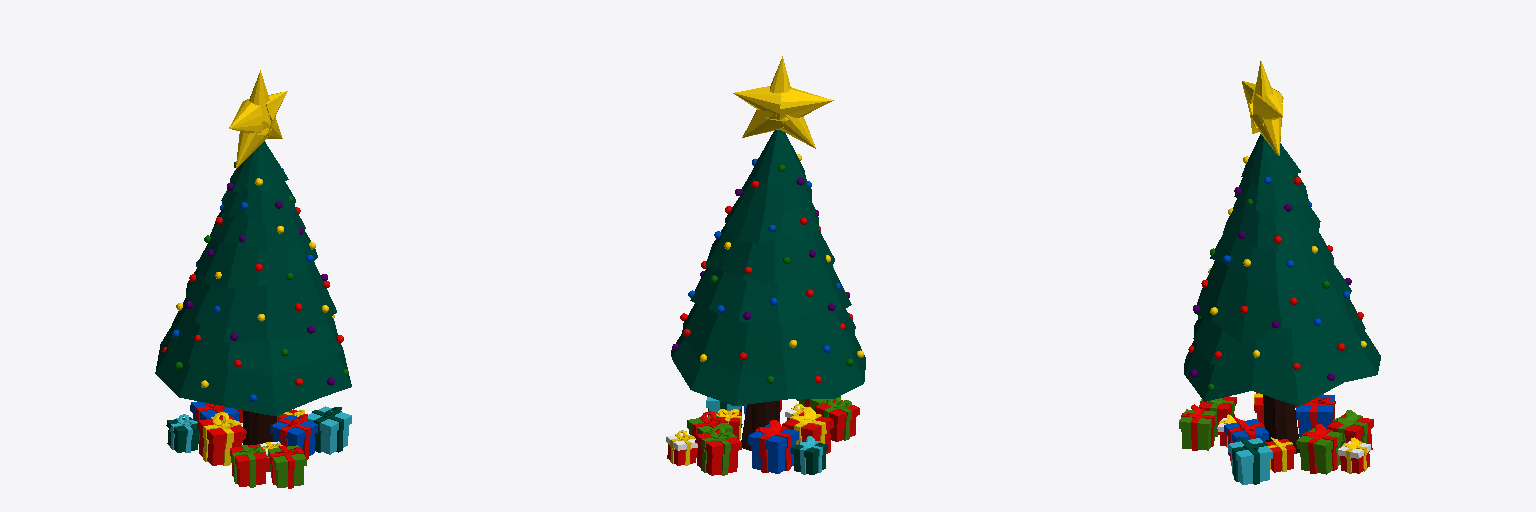
The picture shows the model from 3 angles: view 1: azimuth 30°, elevation 25°; view 2: azimuth 150°, elevation 25°; view 3: azimuth 270°, elevation 25°; orthographic projection.
Visible parts, largest first — view 1: group[number redacted], group[number redacted], group[number redacted], group[number redacted], group[number redacted]; view 2: group[number redacted], group[number redacted], group[number redacted], group[number redacted], group[number redacted], group[number redacted]; view 3: group[number redacted], group[number redacted], group[number redacted], group[number redacted].
Part boxes in pixels (x1,y1,x2,y2): group[number redacted]: (155, 141, 351, 465); group[number redacted]: (230, 441, 306, 488); group[number redacted]: (229, 99, 262, 133); group[number redacted]: (236, 120, 272, 168); group[number redacted]: (249, 70, 276, 134); group[number redacted]: (666, 130, 865, 475); group[number redacted]: (785, 396, 859, 441); group[number redacted]: (779, 87, 833, 123); group[number redacted]: (733, 86, 782, 120); group[number redacted]: (742, 110, 783, 137); group[number redacted]: (771, 114, 815, 148); group[number redacted]: (1184, 134, 1380, 484); group[number redacted]: (1179, 396, 1244, 450); group[number redacted]: (1253, 89, 1282, 119); group[number redacted]: (1251, 114, 1281, 155).
Size of the model in its own units: 0.4099 by 0.8753 by 0.4138.